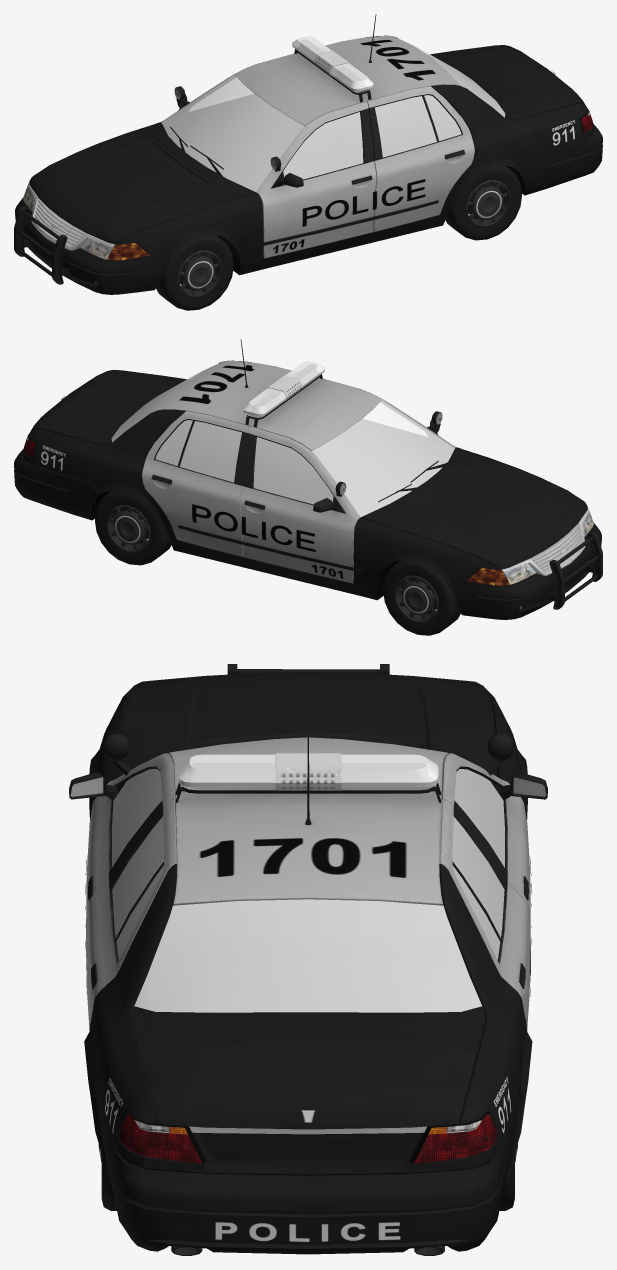
The model's file is policesedan.glb.
3 renders of one model, top to bottom at view 1: azimuth 30°, elevation 25°; view 2: azimuth 150°, elevation 25°; view 3: azimuth 270°, elevation 25°, orthographic. The views are drawn at different scales.
Parts seen in each view (by area): view 1: body; view 2: body; view 3: body.
Part boxes in pixels (x1,y1,x2,y2): body: [14, 14, 602, 310]; body: [14, 339, 602, 635]; body: [69, 664, 547, 1255].
Bounding box in the file's own units: 4.9 × 1.78 × 1.89.
5 materials, 3 textured.
